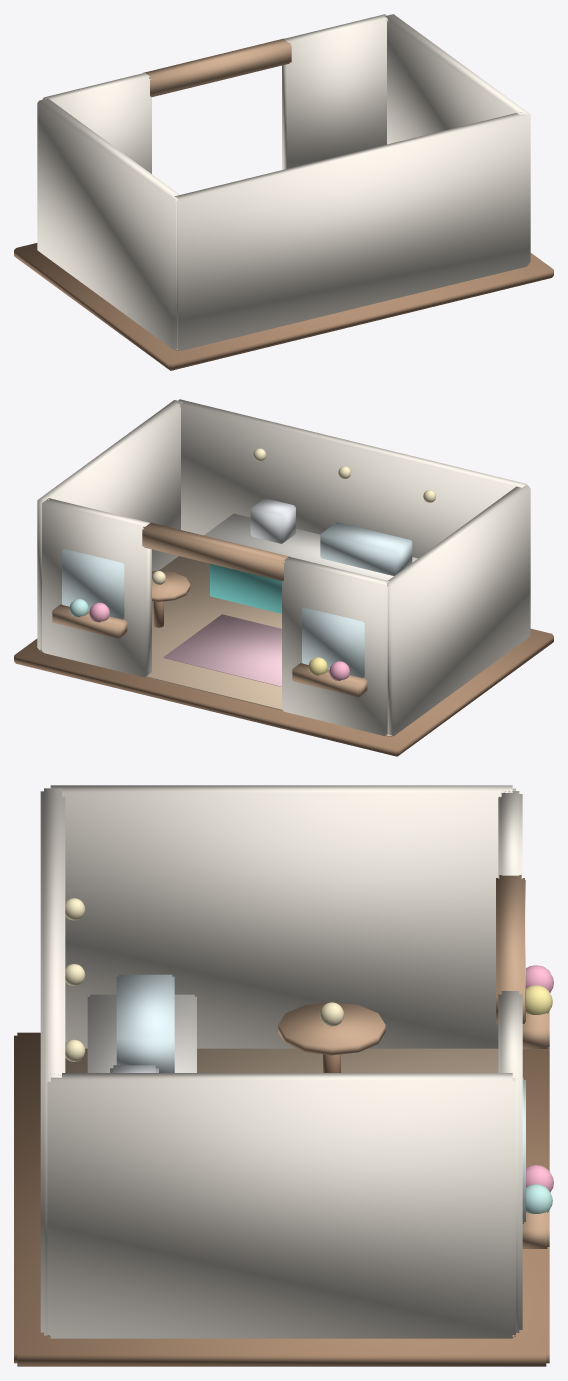
Rendered from CoastalCafe_Base.fbx.
The picture shows the model from 3 angles, top to bottom: view 1: azimuth 30°, elevation 25°; view 2: azimuth 150°, elevation 25°; view 3: azimuth 270°, elevation 25°; orthographic projection. The views are drawn at different scales.
Visible parts, largest first — view 1: CoastalCafe_Base; view 2: CoastalCafe_Base; view 3: CoastalCafe_Base.
Boxes of the visible parts, x1=… form: CoastalCafe_Base: x1=14, y1=14, x2=553, y2=370; CoastalCafe_Base: x1=14, y1=399, x2=553, y2=756; CoastalCafe_Base: x1=14, y1=785, x2=553, y2=1366.
Size of the model in its own units: 6.8 by 2.72 by 4.84.
